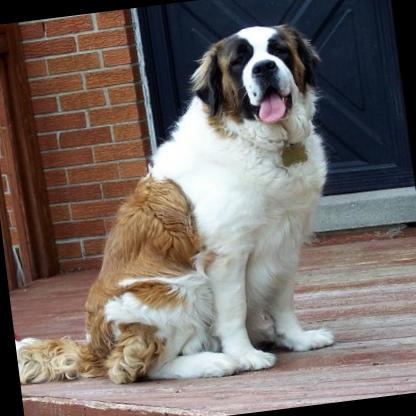Saint_Bernard: (0, 18, 351, 405)
